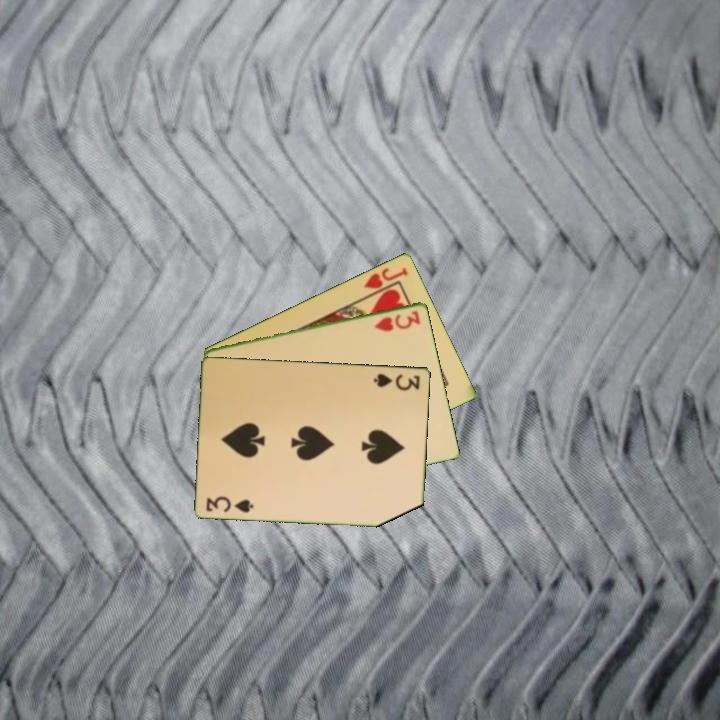3h: (371, 307, 424, 334)
3s: (203, 492, 256, 515), (370, 370, 423, 392)
Jh: (360, 263, 411, 291)
